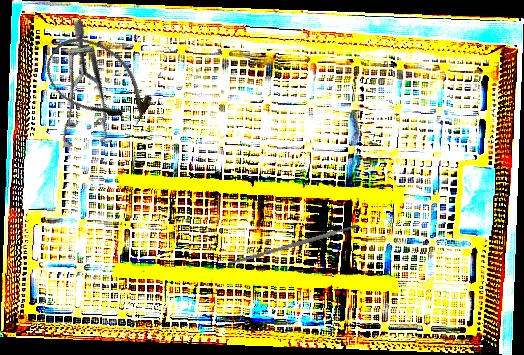Cannula: (34, 23, 164, 142)
Scalpel Handle: (227, 223, 360, 267)
Speculum: (18, 17, 156, 168)
